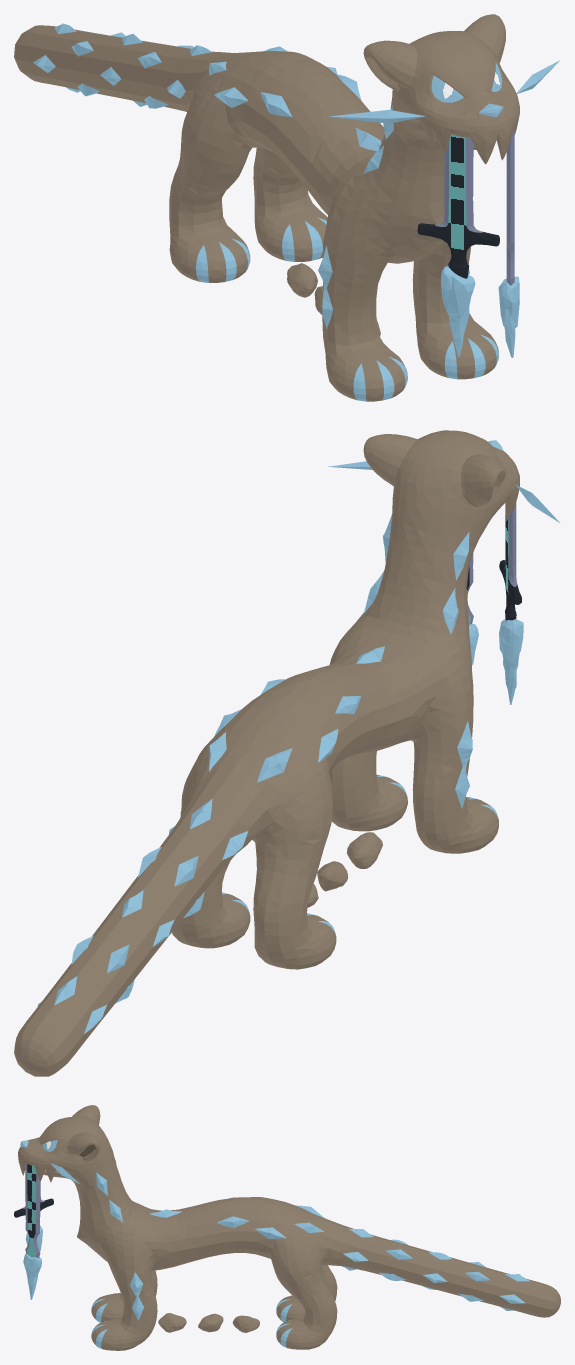
3 views of the same model, one above another, from view 1: azimuth 30°, elevation 25°; view 2: azimuth 150°, elevation 25°; view 3: azimuth 270°, elevation 25° (orthographic). The views are drawn at different scales.
Parts seen in each view (by area): view 1: pm1099_00_00_body_mesh_shape_pm1099_00_00_body_mesh_shape_me, pm1099_00_00_feeler_b_mesh_shape_pm1099_00_00_feeler_b_mesh_, pm1099_00_00_ice_b_mesh_shape_pm1099_00_00_ice_b_mesh_shape_, pm1099_00_00_feeler_b_ice_mesh_shape_pm1099_00_00_feeler_b_i, pm1099_00_00_feeler_a_mesh_shape_pm1099_00_00_feeler_a_mesh_, pm1099_00_00_feeler_a_ice_mesh_shape_pm1099_00_00_feeler_a_i, pm1099_00_00_whiskers_mesh_shape_pm1099_00_00_whiskers_mesh_, pm1099_00_00_ice_a_mesh_shape_pm1099_00_00_ice_a_mesh_shape_, pm1099_00_00_feeler_e_mesh_shape_pm1099_00_00_feeler_e_mesh_, pm1099_00_00_eye_mesh_shape_pm1099_00_00_eye_mesh_shape_mesh; view 2: pm1099_00_00_body_mesh_shape_pm1099_00_00_body_mesh_shape_me, pm1099_00_00_ice_b_mesh_shape_pm1099_00_00_ice_b_mesh_shape_, pm1099_00_00_feeler_b_mesh_shape_pm1099_00_00_feeler_b_mesh_, pm1099_00_00_feeler_b_ice_mesh_shape_pm1099_00_00_feeler_b_i, pm1099_00_00_ice_a_mesh_shape_pm1099_00_00_ice_a_mesh_shape_, pm1099_00_00_feeler_c_mesh_shape_pm1099_00_00_feeler_c_mesh_; view 3: pm1099_00_00_body_mesh_shape_pm1099_00_00_body_mesh_shape_me, pm1099_00_00_ice_b_mesh_shape_pm1099_00_00_ice_b_mesh_shape_, pm1099_00_00_feeler_a_mesh_shape_pm1099_00_00_feeler_a_mesh_, pm1099_00_00_ice_a_mesh_shape_pm1099_00_00_ice_a_mesh_shape_, pm1099_00_00_feeler_a_ice_mesh_shape_pm1099_00_00_feeler_a_i, pm1099_00_00_feeler_c_mesh_shape_pm1099_00_00_feeler_c_mesh_, pm1099_00_00_feeler_e_mesh_shape_pm1099_00_00_feeler_e_mesh_, pm1099_00_00_feeler_d_mesh_shape_pm1099_00_00_feeler_d_mesh_.
Part boxes in pixels (x1,y1,x2,y2): pm1099_00_00_body_mesh_shape_pm1099_00_00_body_mesh_shape_me: (14, 14, 519, 401); pm1099_00_00_feeler_b_mesh_shape_pm1099_00_00_feeler_b_mesh_: (417, 134, 499, 278); pm1099_00_00_ice_b_mesh_shape_pm1099_00_00_ice_b_mesh_shape_: (33, 32, 469, 328); pm1099_00_00_feeler_b_ice_mesh_shape_pm1099_00_00_feeler_b_i: (441, 266, 475, 357); pm1099_00_00_feeler_a_mesh_shape_pm1099_00_00_feeler_a_mesh_: (506, 128, 514, 285); pm1099_00_00_feeler_a_ice_mesh_shape_pm1099_00_00_feeler_a_i: (498, 276, 519, 357); pm1099_00_00_whiskers_mesh_shape_pm1099_00_00_whiskers_mesh_: (328, 60, 560, 123); pm1099_00_00_ice_a_mesh_shape_pm1099_00_00_ice_a_mesh_shape_: (54, 23, 381, 151); pm1099_00_00_feeler_e_mesh_shape_pm1099_00_00_feeler_e_mesh_: (287, 263, 317, 297); pm1099_00_00_eye_mesh_shape_pm1099_00_00_eye_mesh_shape_mesh: (431, 62, 502, 102); pm1099_00_00_body_mesh_shape_pm1099_00_00_body_mesh_shape_me: (14, 430, 519, 1076); pm1099_00_00_ice_b_mesh_shape_pm1099_00_00_ice_b_mesh_shape_: (37, 515, 472, 1033); pm1099_00_00_feeler_b_mesh_shape_pm1099_00_00_feeler_b_mesh_: (499, 503, 521, 620); pm1099_00_00_feeler_b_ice_mesh_shape_pm1099_00_00_feeler_b_i: (499, 619, 523, 704); pm1099_00_00_ice_a_mesh_shape_pm1099_00_00_ice_a_mesh_shape_: (54, 646, 384, 1005); pm1099_00_00_feeler_c_mesh_shape_pm1099_00_00_feeler_c_mesh_: (347, 832, 382, 868); pm1099_00_00_body_mesh_shape_pm1099_00_00_body_mesh_shape_me: (18, 1105, 560, 1350); pm1099_00_00_ice_b_mesh_shape_pm1099_00_00_ice_b_mesh_shape_: (96, 1172, 525, 1320); pm1099_00_00_feeler_a_mesh_shape_pm1099_00_00_feeler_a_mesh_: (25, 1163, 40, 1258); pm1099_00_00_ice_a_mesh_shape_pm1099_00_00_ice_a_mesh_shape_: (149, 1209, 530, 1310); pm1099_00_00_feeler_a_ice_mesh_shape_pm1099_00_00_feeler_a_i: (23, 1253, 41, 1299); pm1099_00_00_feeler_c_mesh_shape_pm1099_00_00_feeler_c_mesh_: (158, 1313, 186, 1332); pm1099_00_00_feeler_e_mesh_shape_pm1099_00_00_feeler_e_mesh_: (232, 1315, 259, 1332); pm1099_00_00_feeler_d_mesh_shape_pm1099_00_00_feeler_d_mesh_: (198, 1313, 223, 1332).
Bounding box in the file's own units: 1.23 × 1.85 × 4.33.
Materials: 6 (6 with a texture image).
